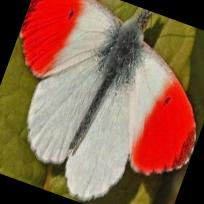butterfly: (20, 0, 196, 201)
